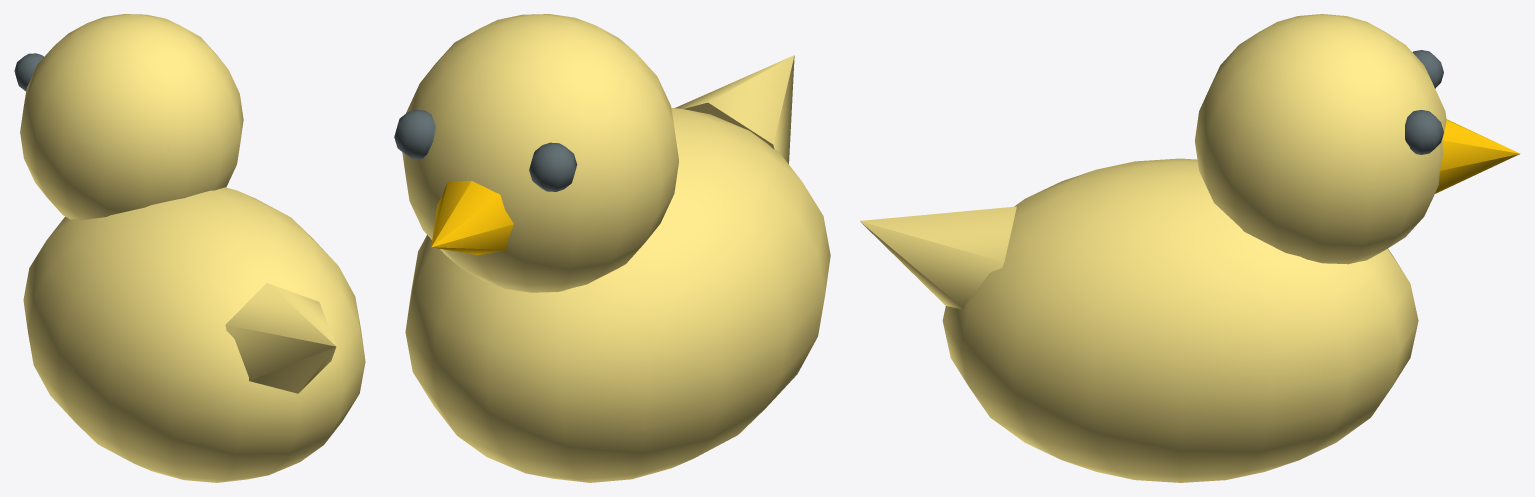
Rendered from item_lastik_ordek.glb.
3 views of the same model, side by side, from view 1: azimuth 30°, elevation 25°; view 2: azimuth 150°, elevation 25°; view 3: azimuth 270°, elevation 25° (orthographic). The views are drawn at different scales.
Visible parts, largest first — view 1: lastik_ordek; view 2: lastik_ordek; view 3: lastik_ordek.
Part boxes in pixels (left/top/right/bottom): lastik_ordek: left=14, top=14, right=365, bottom=482; lastik_ordek: left=394, top=14, right=830, bottom=482; lastik_ordek: left=860, top=14, right=1520, bottom=482.
Bounding box in the file's own units: 0.126 × 0.171 × 0.2334.
